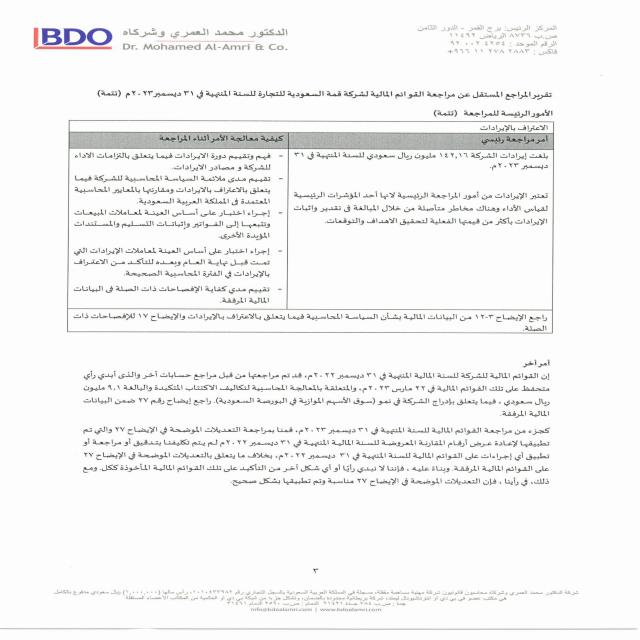auditor_report: (426, 108, 556, 118), (470, 89, 556, 102)
